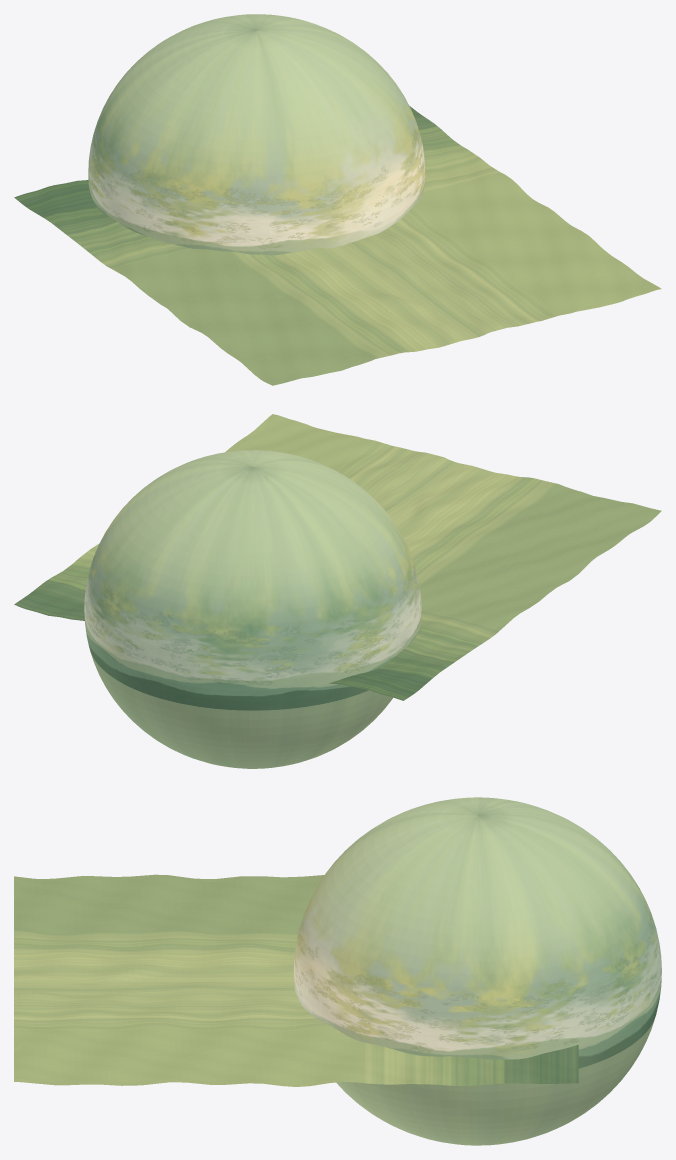
Rendered from orchard.glb.
The picture shows the model from 3 angles, top to bottom: view 1: azimuth 30°, elevation 25°; view 2: azimuth 150°, elevation 25°; view 3: azimuth 270°, elevation 25°; orthographic projection. The views are drawn at different scales.
Parts seen in each view (by area): view 1: Terrain · meadow and worn crossing, Background · painted valley panorama; view 2: Background · painted valley panorama, Terrain · meadow and worn crossing; view 3: Background · painted valley panorama, Terrain · meadow and worn crossing.
Boxes of the visible parts, x1,y1,x2,y2 form: Terrain · meadow and worn crossing: (14, 106, 661, 385); Background · painted valley panorama: (88, 14, 425, 306); Background · painted valley panorama: (84, 450, 421, 768); Terrain · meadow and worn crossing: (14, 414, 661, 700); Background · painted valley panorama: (293, 797, 661, 1145); Terrain · meadow and worn crossing: (14, 874, 578, 1086).
Bounding box in the file's own units: 40 × 28 × 52.78.
29 materials, 15 textured.
